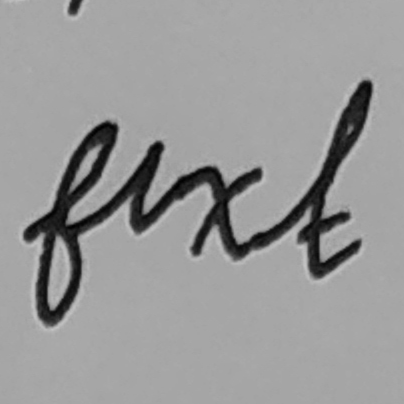f: (18, 116, 120, 329)
i: (122, 129, 170, 244)
t: (289, 75, 380, 284)
x: (178, 159, 274, 268)
